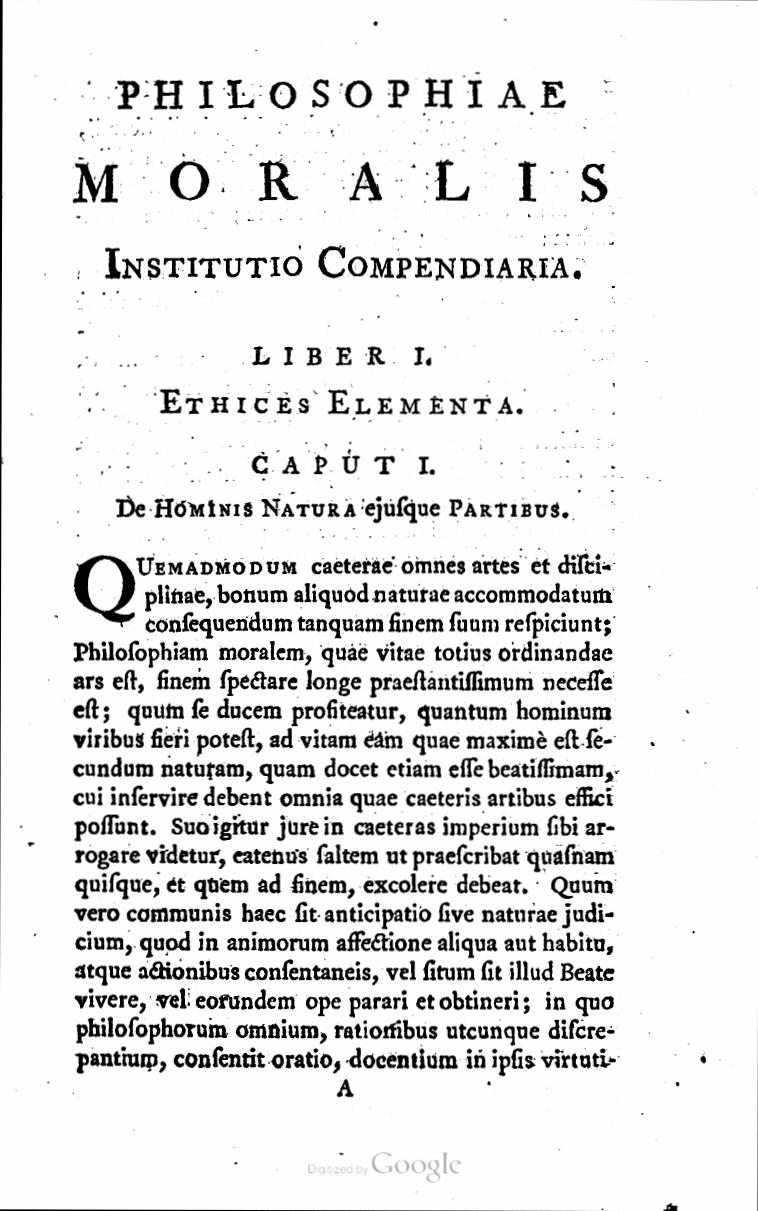full_p: (68, 55, 625, 297), (102, 332, 577, 538)
initial_l: (65, 552, 140, 632)
signature: (330, 1078, 357, 1100)
top_p: (65, 552, 620, 1080)
